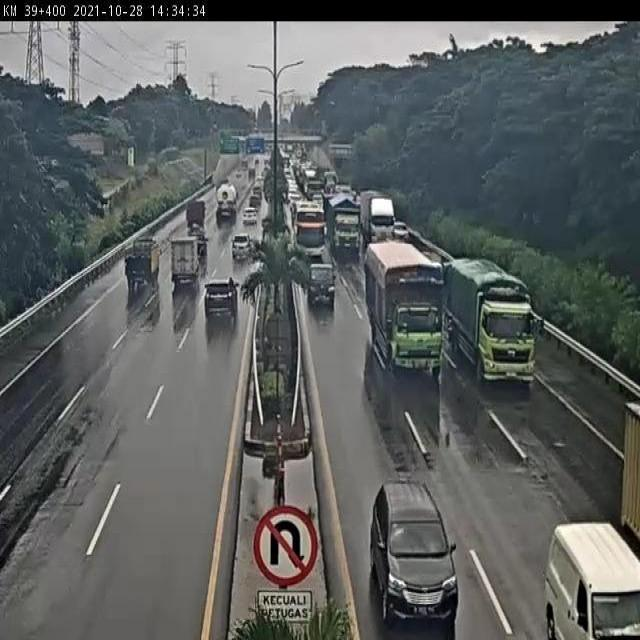big bus: (292, 203, 328, 268)
big truck: (325, 190, 361, 253), (359, 189, 397, 243)
car: (365, 477, 462, 628), (447, 260, 546, 395), (367, 242, 448, 382), (548, 520, 640, 640), (301, 256, 337, 305), (203, 275, 241, 317), (227, 231, 255, 265)
small truck: (124, 237, 160, 292), (171, 235, 205, 285), (213, 184, 238, 231), (184, 200, 210, 233)
